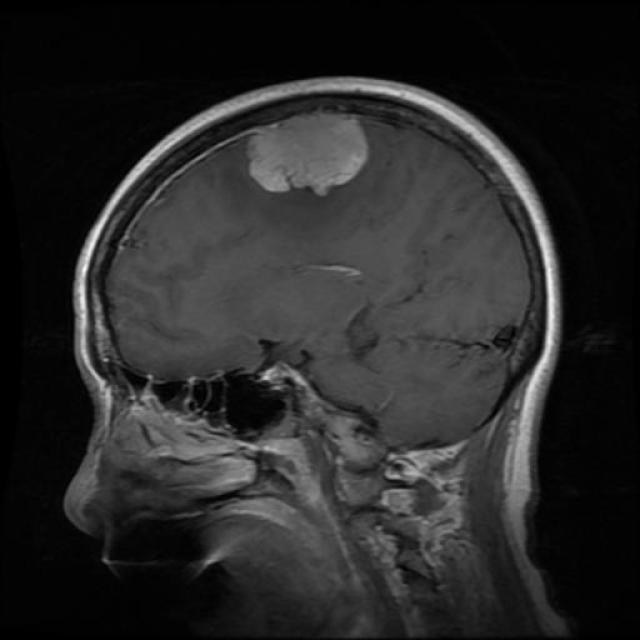meningioma: (248, 114, 369, 196)
